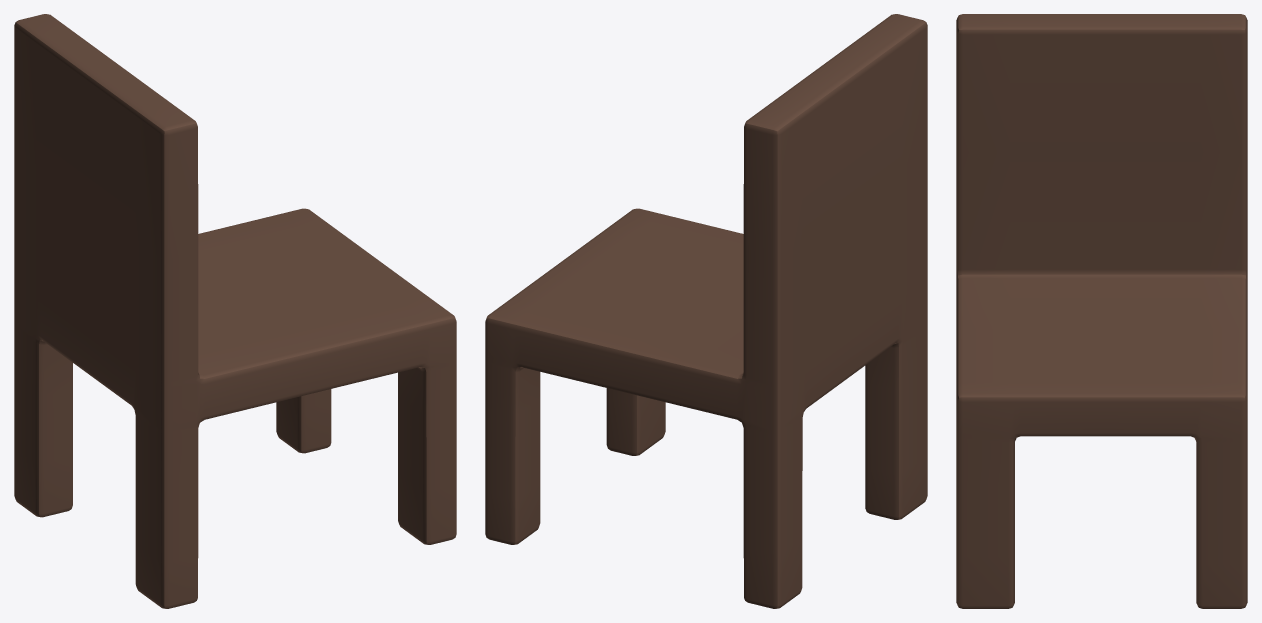
Rendered from chaise_table_carre.fbx.
The picture shows the model from 3 angles, left to right: view 1: azimuth 30°, elevation 25°; view 2: azimuth 150°, elevation 25°; view 3: azimuth 270°, elevation 25°; orthographic projection. The views are drawn at different scales.
Parts seen in each view (by area): view 1: pCube1; view 2: pCube1; view 3: pCube1.
Boxes of the visible parts, x1,y1,x2,y2 form: pCube1: (14,14,456,608); pCube1: (485,14,927,608); pCube1: (956,14,1247,608).
Size of the model in its own units: 0.00394 by 0.00614 by 0.0035.
